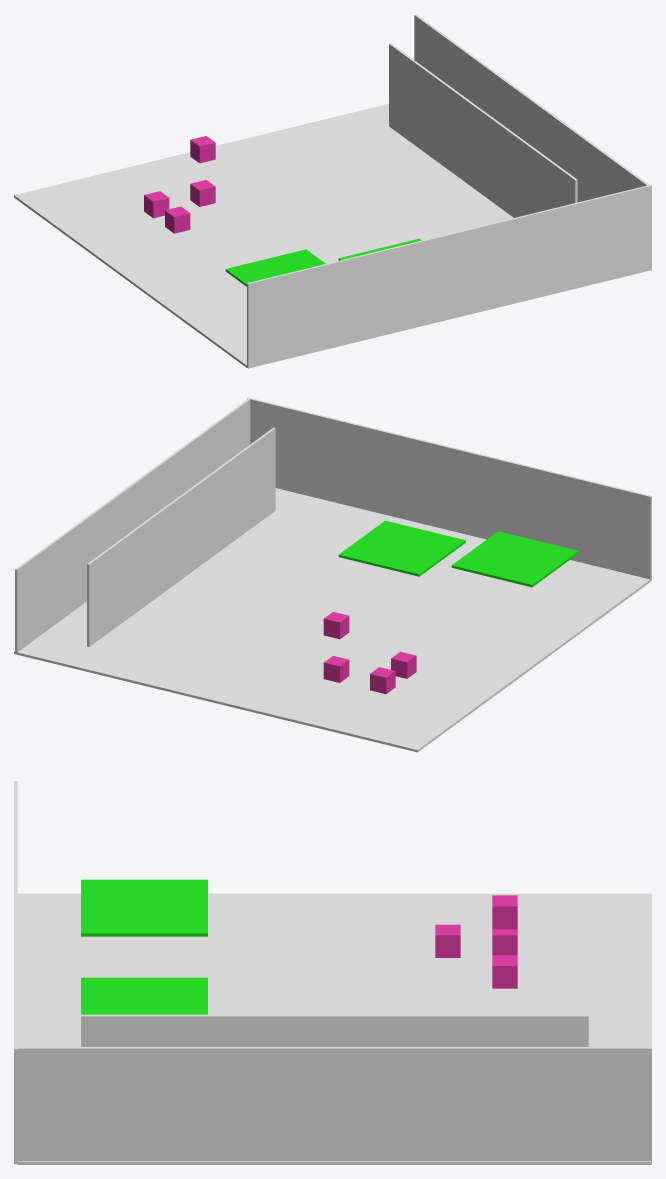
File: TestLevelOne.glb
The picture shows the model from 3 angles, top to bottom: view 1: azimuth 30°, elevation 25°; view 2: azimuth 150°, elevation 25°; view 3: azimuth 270°, elevation 25°; orthographic projection. The views are drawn at different scales.
Visible parts, largest first — view 1: Floor, Wall, Wall.002, Wall.001, FloatingPlatform2, Box.003, Box, Box.002, Box.001; view 2: Floor, Wall, Wall.002, Wall.001, FloatingPlatform2, FloatingPlatform, Box.003, Box.002, Box.001, Box; view 3: Wall.001, Floor, Wall.002, FloatingPlatform2, FloatingPlatform, Wall, Box.003, Box, Box.002, Box.001.
Boxes of the visible parts, left/top/right/bottom form: Floor: left=14, top=103, right=513, bottom=367; Wall: left=247, top=184, right=651, bottom=368; Wall.002: left=389, top=43, right=577, bottom=217; Wall.001: left=414, top=14, right=648, bottom=202; FloatingPlatform2: left=225, top=249, right=325, bottom=286; Box.003: left=190, top=136, right=215, bottom=163; Box: left=165, top=206, right=190, bottom=233; Box.002: left=190, top=180, right=215, bottom=206; Box.001: left=144, top=191, right=169, bottom=218; Floor: left=14, top=488, right=650, bottom=752; Wall: left=247, top=397, right=651, bottom=580; Wall.002: left=87, top=427, right=275, bottom=646; Wall.001: left=15, top=398, right=250, bottom=653; FloatingPlatform2: left=451, top=531, right=578, bottom=587; FloatingPlatform: left=338, top=520, right=465, bottom=576; Box.003: left=323, top=612, right=349, bottom=639; Box.002: left=323, top=655, right=349, bottom=682; Box.001: left=370, top=667, right=395, bottom=693; Box: left=391, top=651, right=416, bottom=678; Wall.001: left=17, top=1047, right=651, bottom=1160; Floor: left=17, top=893, right=651, bottom=1164; Wall.002: left=81, top=1014, right=588, bottom=1046; FloatingPlatform2: left=81, top=879, right=207, bottom=936; FloatingPlatform: left=81, top=977, right=207, bottom=1014; Wall: left=14, top=781, right=17, bottom=1164; Box.003: left=492, top=895, right=517, bottom=929; Box: left=435, top=924, right=460, bottom=957; Box.002: left=492, top=955, right=517, bottom=988; Box.001: left=492, top=929, right=517, bottom=955.
Bounding box in the file's own units: 50 × 10.06 × 50.28.
